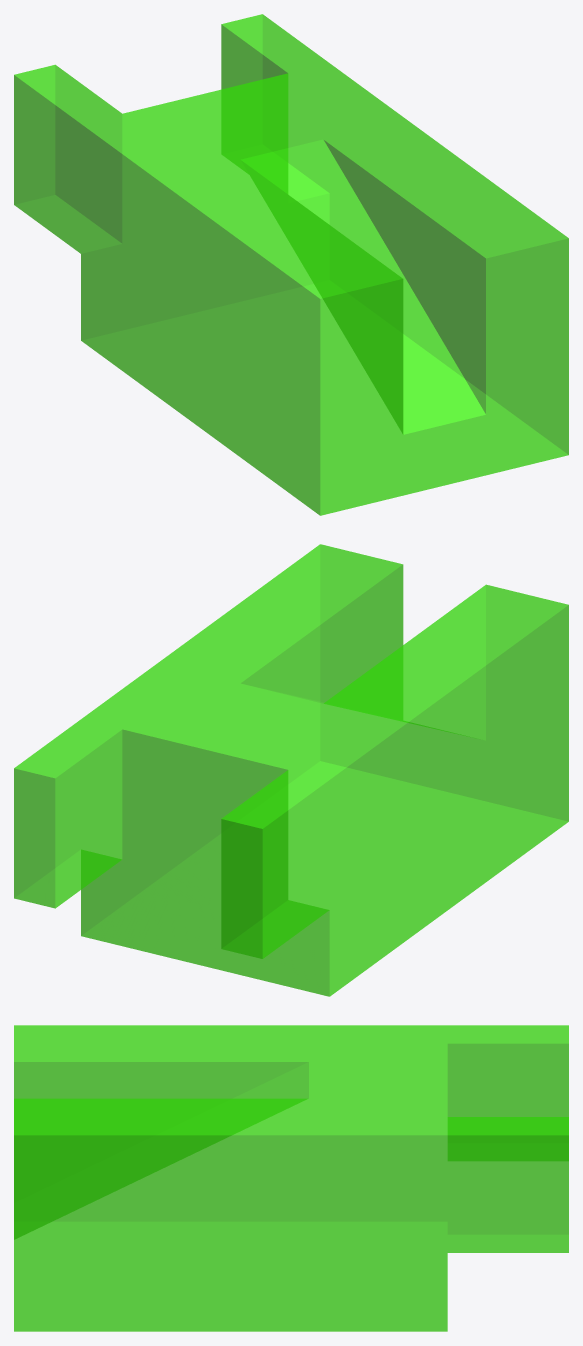
The picture shows the model from 3 angles, top to bottom: view 1: azimuth 30°, elevation 25°; view 2: azimuth 150°, elevation 25°; view 3: azimuth 270°, elevation 25°; orthographic projection. The views are drawn at different scales.
Parts seen in each view (by area): view 1: Sólido1; view 2: Sólido1; view 3: Sólido1.
Boxes of the visible parts, x1,y1,x2,y2 form: Sólido1: (14,14,568,515); Sólido1: (14,544,568,996); Sólido1: (14,1025,568,1331).
Size of the model in its own units: 30 by 25 by 64.
